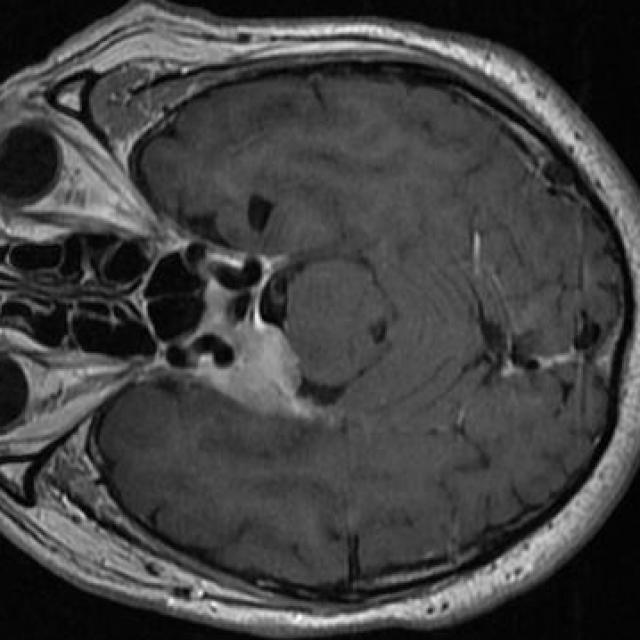meningioma: (214, 317, 324, 417)
